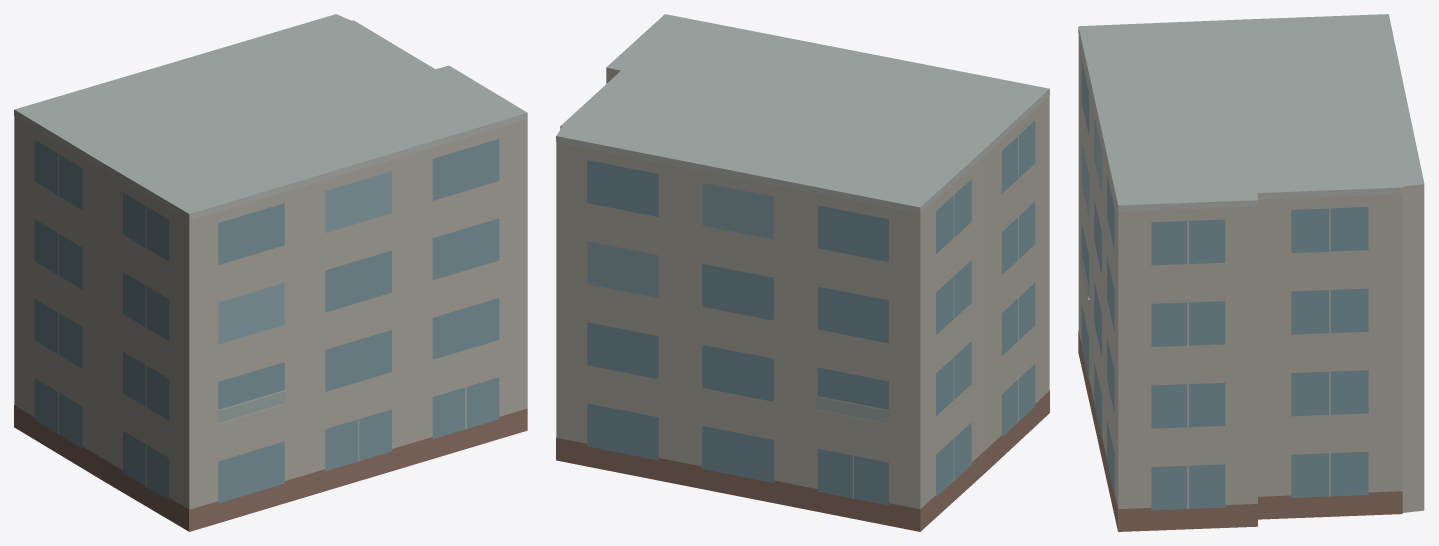
The model's file is survey-upis-32748170.glb.
3 renders of one model, left to right at view 1: azimuth 30°, elevation 25°; view 2: azimuth 150°, elevation 25°; view 3: azimuth 270°, elevation 25°, orthographic. The views are drawn at different scales.
Parts seen in each view (by area): view 1: survey-upis-32748170.tmp; view 2: survey-upis-32748170.tmp; view 3: survey-upis-32748170.tmp.
Boxes of the visible parts, x1,y1,x2,y2 form: survey-upis-32748170.tmp: (14, 14, 527, 531); survey-upis-32748170.tmp: (556, 14, 1049, 531); survey-upis-32748170.tmp: (1078, 14, 1424, 531).
Size of the model in its own units: 15.35 by 12.2 by 11.73.
